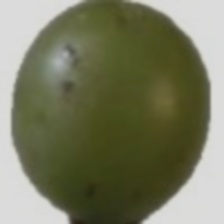grapes: (33, 2, 205, 179)
